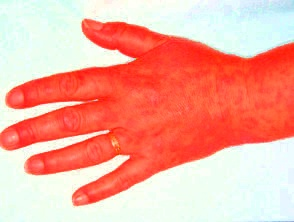SJS-TEN: (94, 23, 294, 180)
